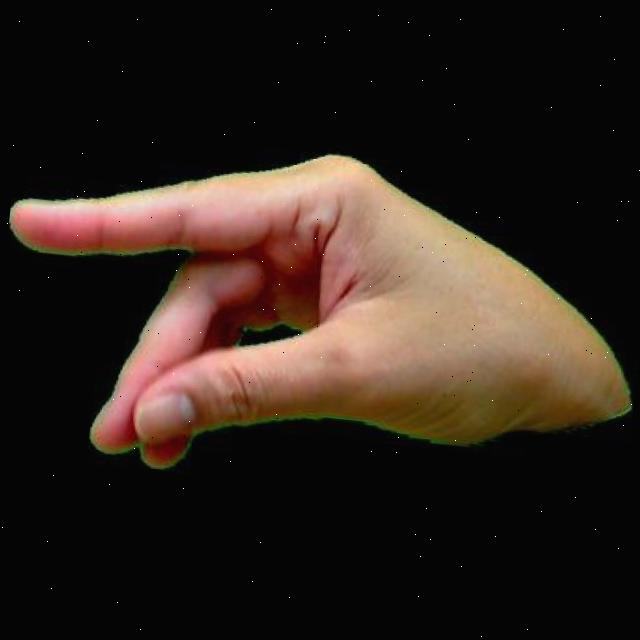p: (0, 107, 640, 517)
